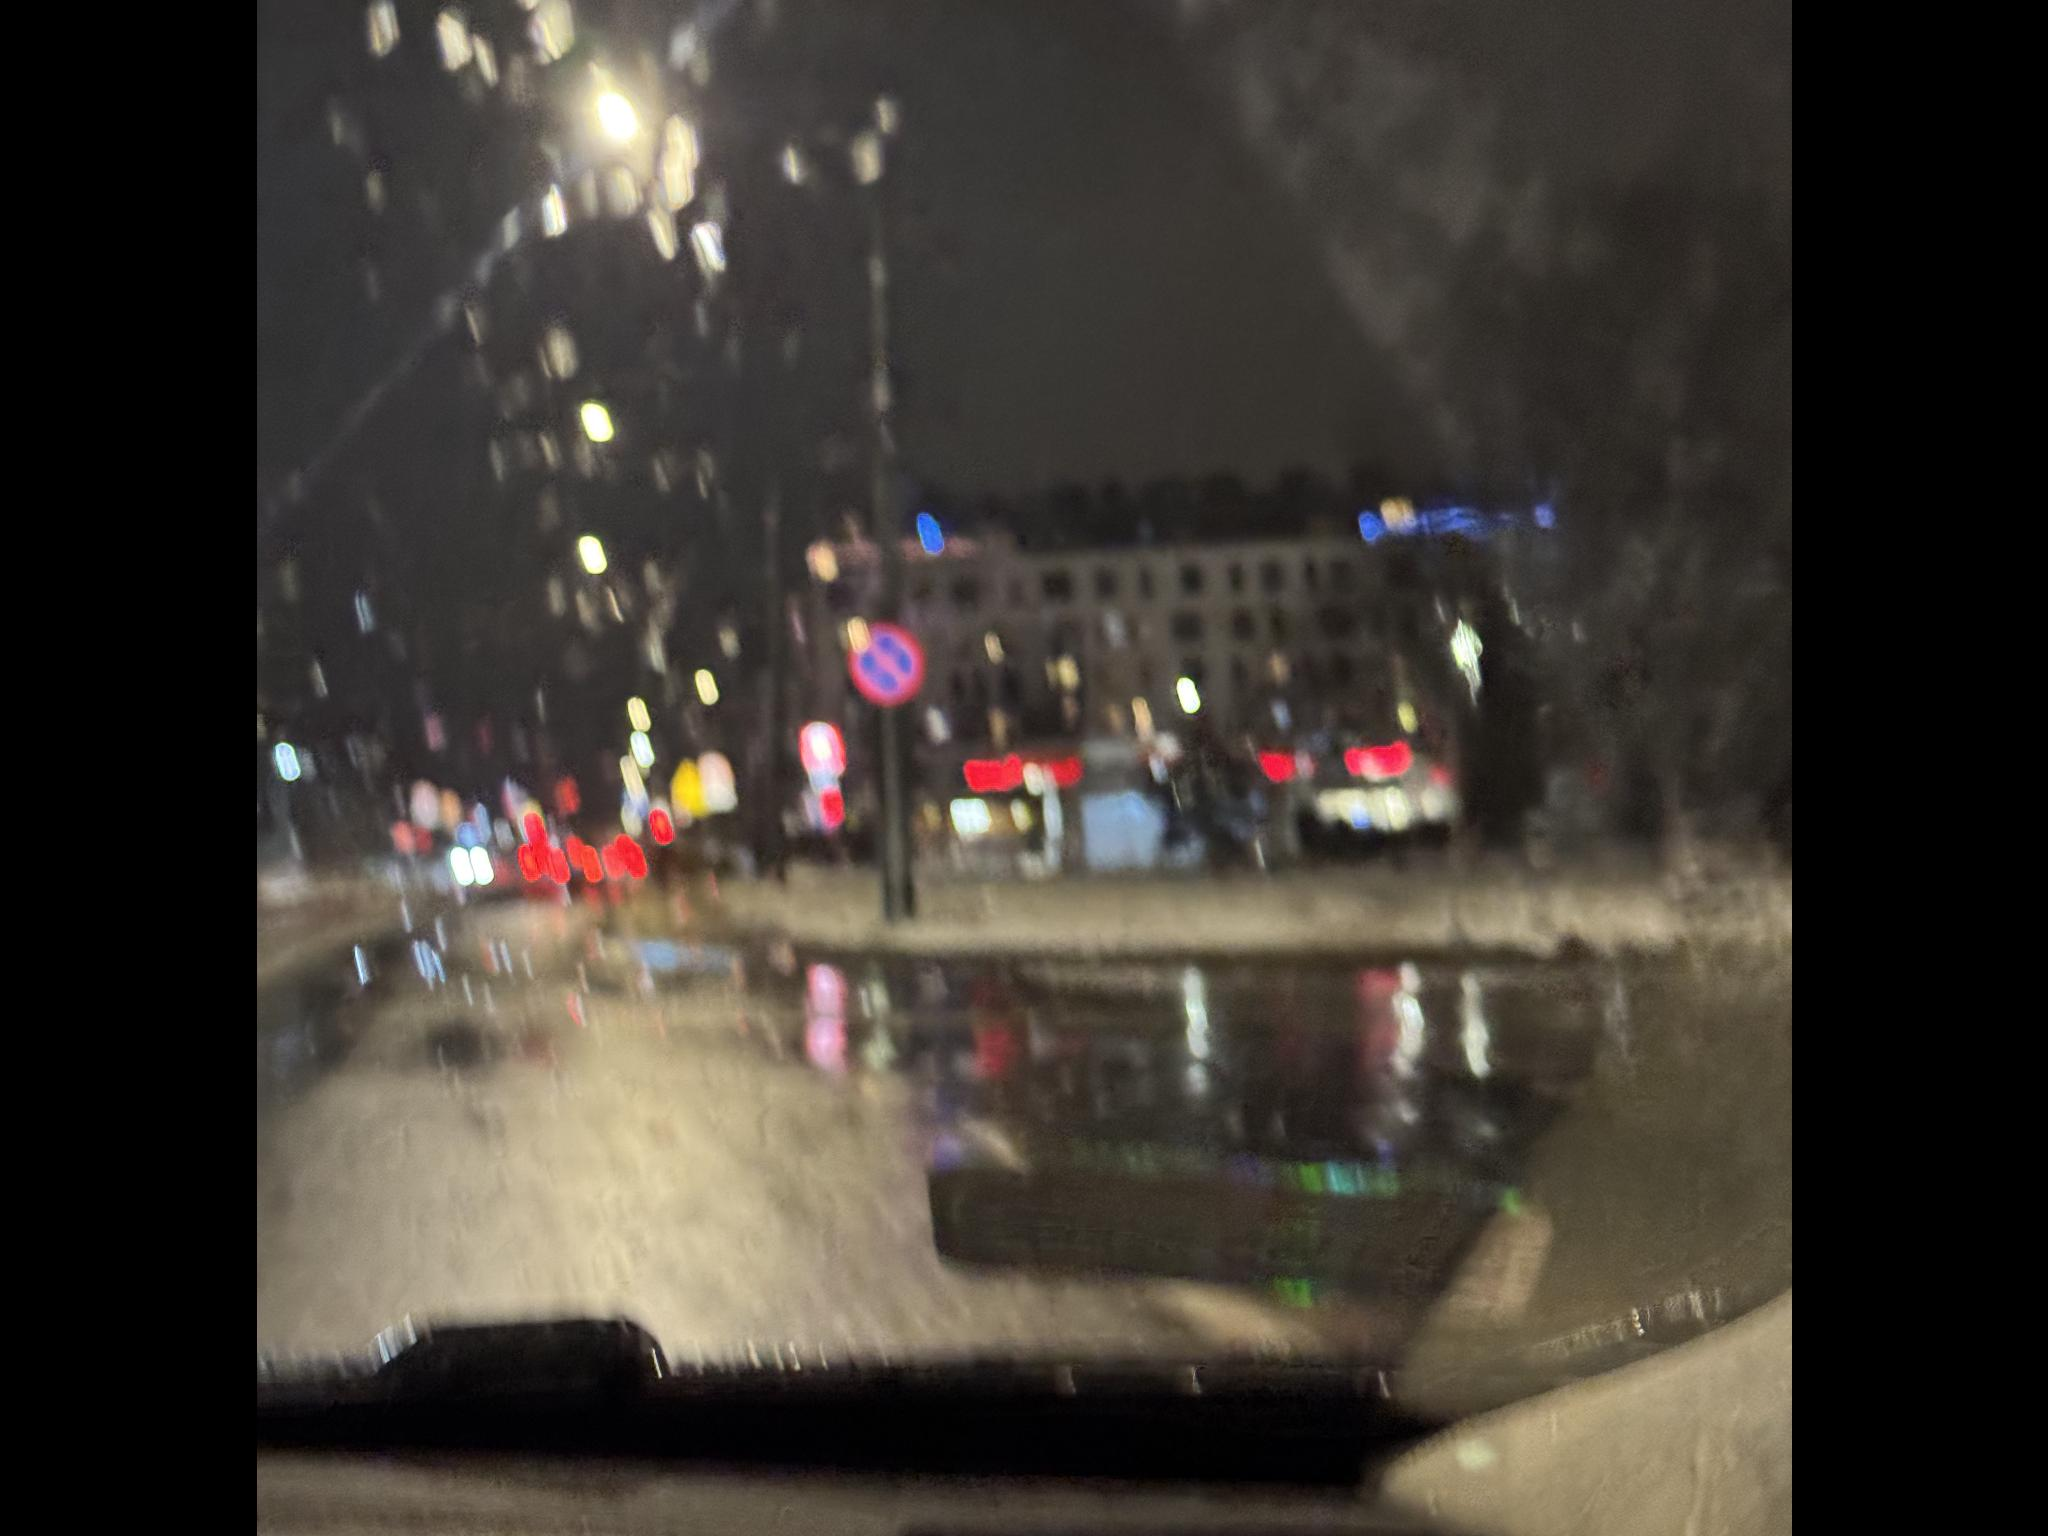prohibitory: (829, 334, 914, 416)
